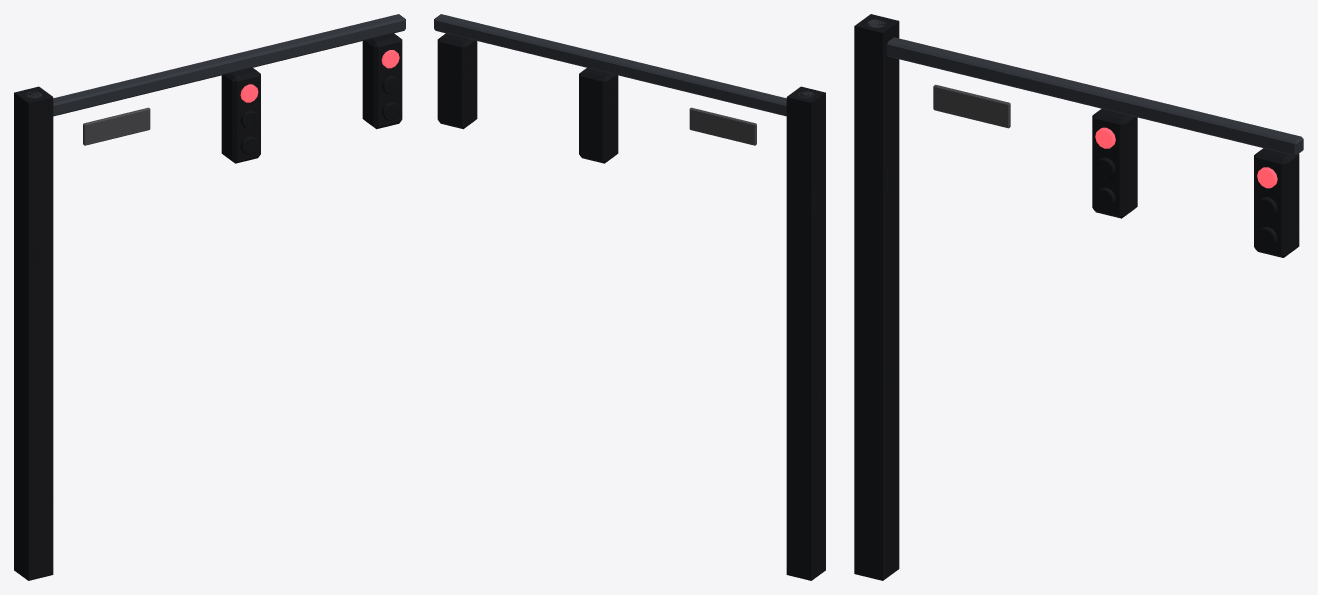
File: kit_traffic_light.glb
The picture shows the model from 3 angles, left to right: view 1: azimuth 30°, elevation 25°; view 2: azimuth 150°, elevation 25°; view 3: azimuth 330°, elevation 25°; orthographic projection. The views are drawn at different scales.
Parts seen in each view (by area): view 1: tl_COL, tl_arm, tl_head4.2, tl_head2.5, tl_sign; view 2: tl_COL, tl_arm, tl_head4.2, tl_head2.5, tl_sign; view 3: tl_COL, tl_arm, tl_head4.2, tl_head2.5, tl_sign.
Part boxes in pixels (box(x1,y1,x2,y2)): tl_COL: box(14, 86, 53, 580); tl_arm: box(53, 14, 405, 116); tl_head4.2: box(362, 33, 402, 129); tl_head2.5: box(221, 68, 260, 163); tl_sign: box(83, 107, 150, 145); tl_COL: box(786, 86, 825, 580); tl_arm: box(434, 14, 786, 116); tl_head4.2: box(437, 33, 477, 129); tl_head2.5: box(579, 68, 618, 163); tl_sign: box(689, 107, 756, 145); tl_COL: box(854, 14, 899, 580); tl_arm: box(887, 37, 1303, 155); tl_head4.2: box(1254, 148, 1299, 257); tl_head2.5: box(1092, 108, 1137, 218); tl_sign: box(933, 84, 1010, 128).
Size of the model in its own units: 4.6 by 5.5 by 0.345.
4 materials, 4 textured.
